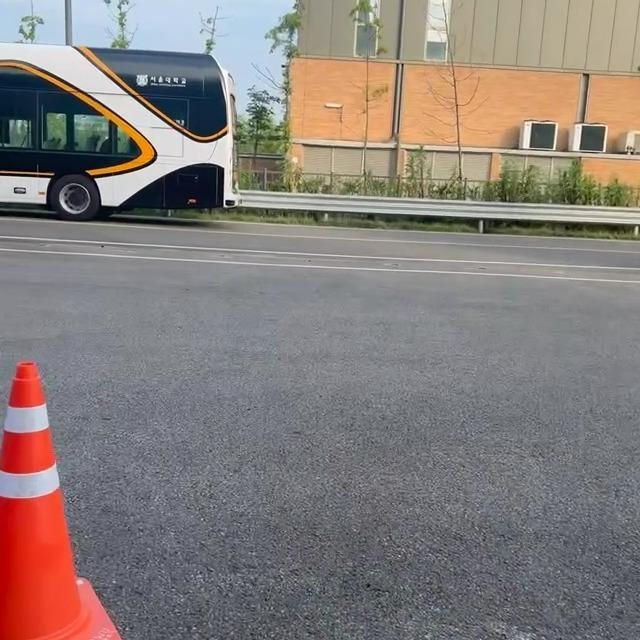fallen_object: (0, 336, 164, 640)
